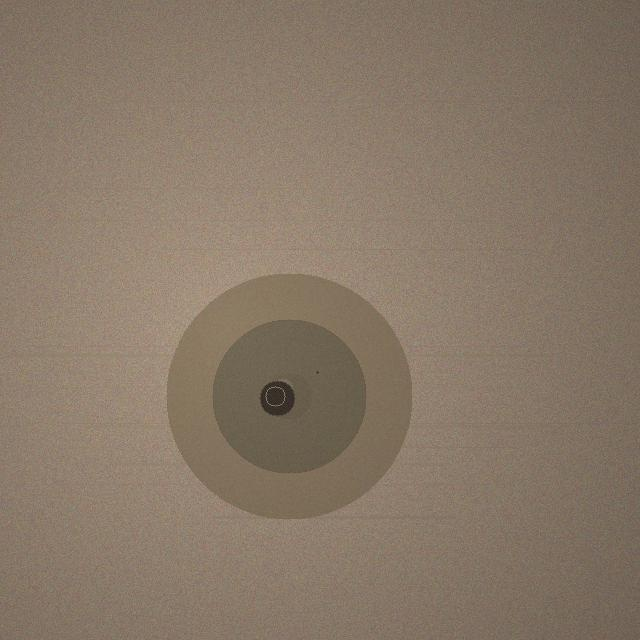shrinkage: (166, 273, 412, 519)
